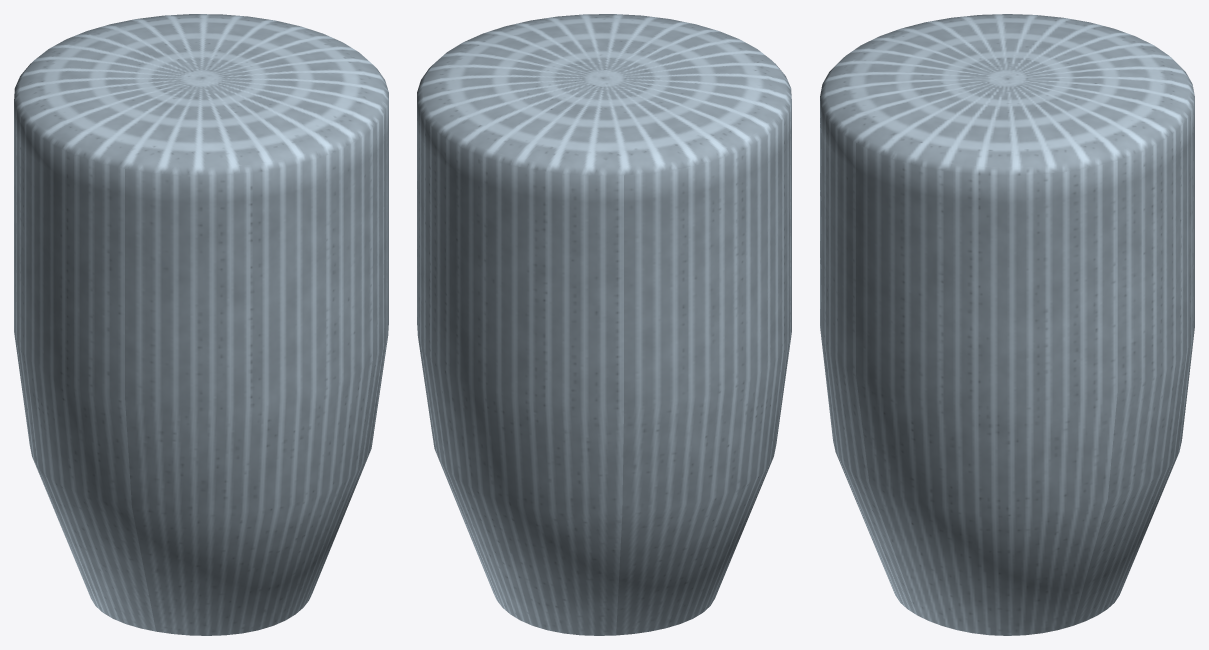
Rendered from shell_diatom_disc.glb.
3 views of the same model, side by side, from view 1: azimuth 30°, elevation 25°; view 2: azimuth 150°, elevation 25°; view 3: azimuth 270°, elevation 25° (orthographic).
Parts seen in each view (by area): view 1: ShellDiatomDisc; view 2: ShellDiatomDisc; view 3: ShellDiatomDisc.
Boxes of the visible parts, x1=… form: ShellDiatomDisc: x1=14, y1=14, x2=388, y2=635; ShellDiatomDisc: x1=417, y1=14, x2=791, y2=635; ShellDiatomDisc: x1=820, y1=14, x2=1194, y2=635.
Bounding box in the file's own units: 1.5 × 2.4 × 1.5.
Materials: 1 (1 with a texture image).
